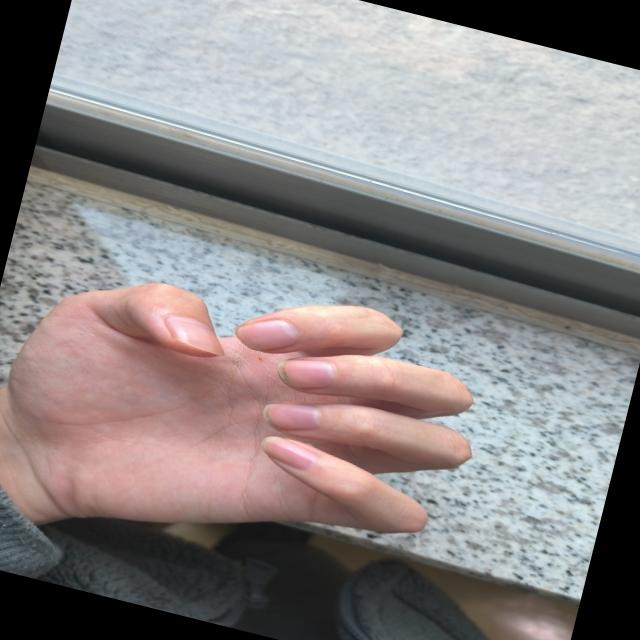Nail: (163, 314, 222, 355), (234, 318, 296, 350), (260, 436, 318, 469), (275, 360, 335, 388), (262, 404, 319, 430)
